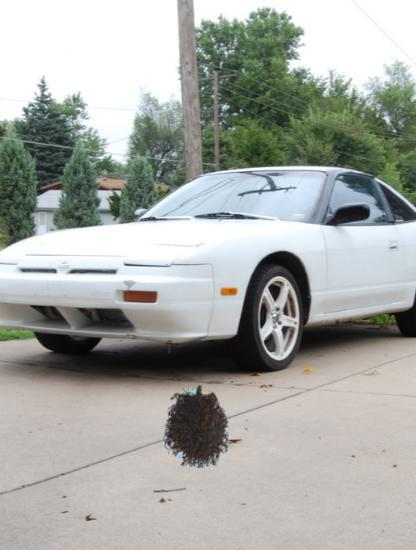Rambutan: (157, 386, 239, 468)
